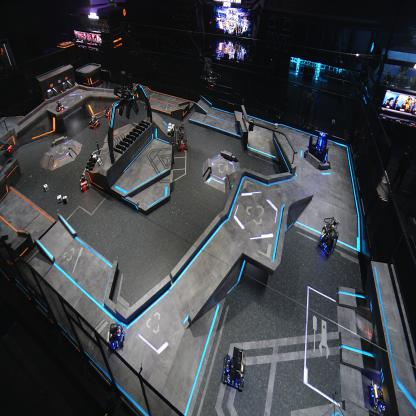car: (220, 345, 246, 391), (318, 215, 340, 256), (370, 378, 392, 412), (107, 322, 125, 354), (177, 122, 187, 150), (88, 114, 100, 129), (79, 174, 88, 192), (55, 98, 65, 112), (104, 105, 113, 119)
